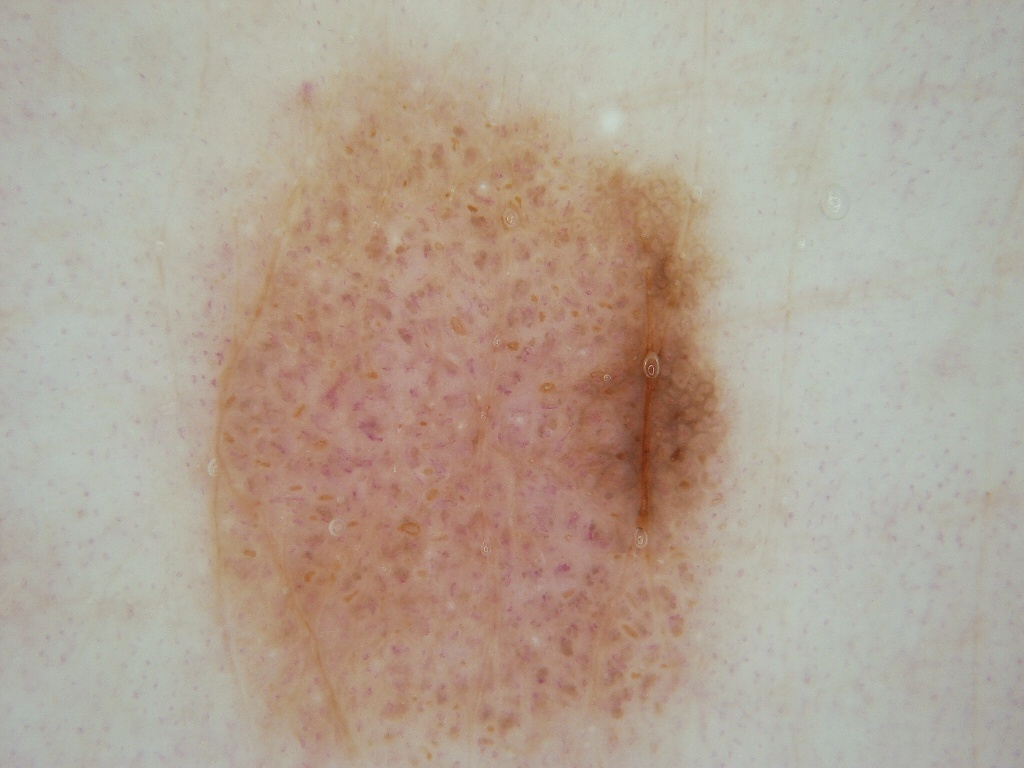Detected Lesion: (201, 65, 737, 768)
